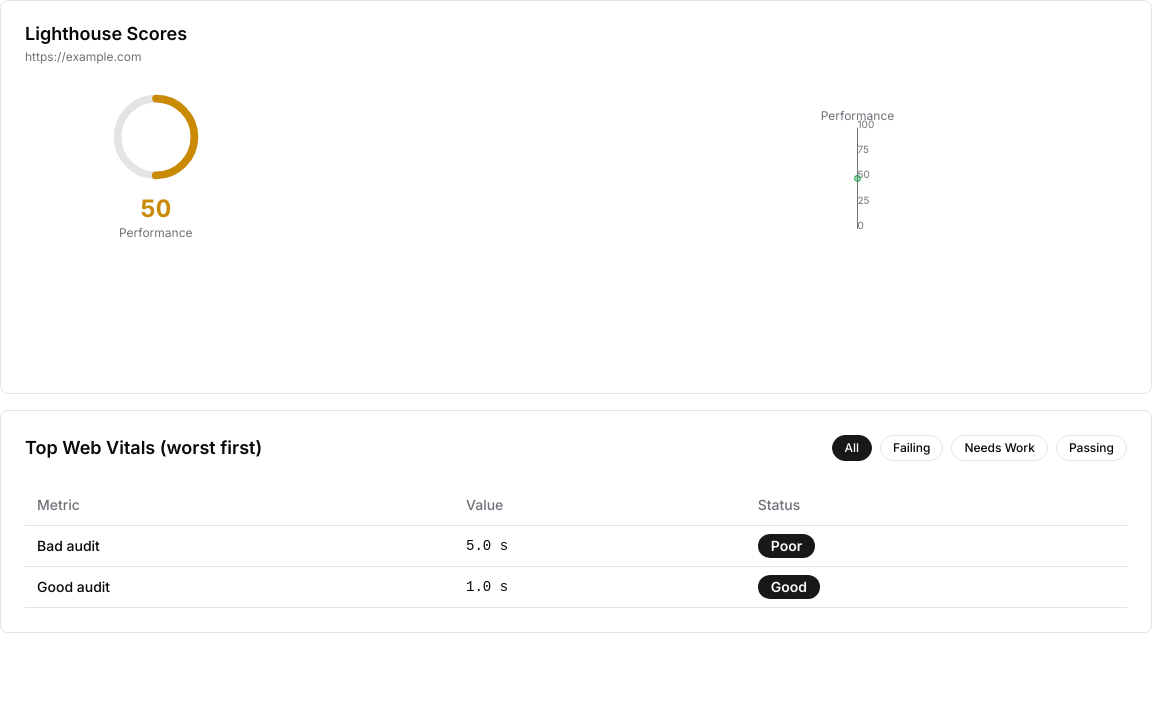
QualityDetail › filters audits by status when a chip is toggled
Check: the text "Bad audit" is shown, box x1=25 y1=525 x2=454 y2=566
Check: the text "Good audit" is shown, box x1=25 y1=566 x2=454 y2=607
What coordinates should you click on to do the following:
click the button "Failing"
I would click on:
 (912, 448)
Its box is x1=880 y1=435 x2=944 y2=461.
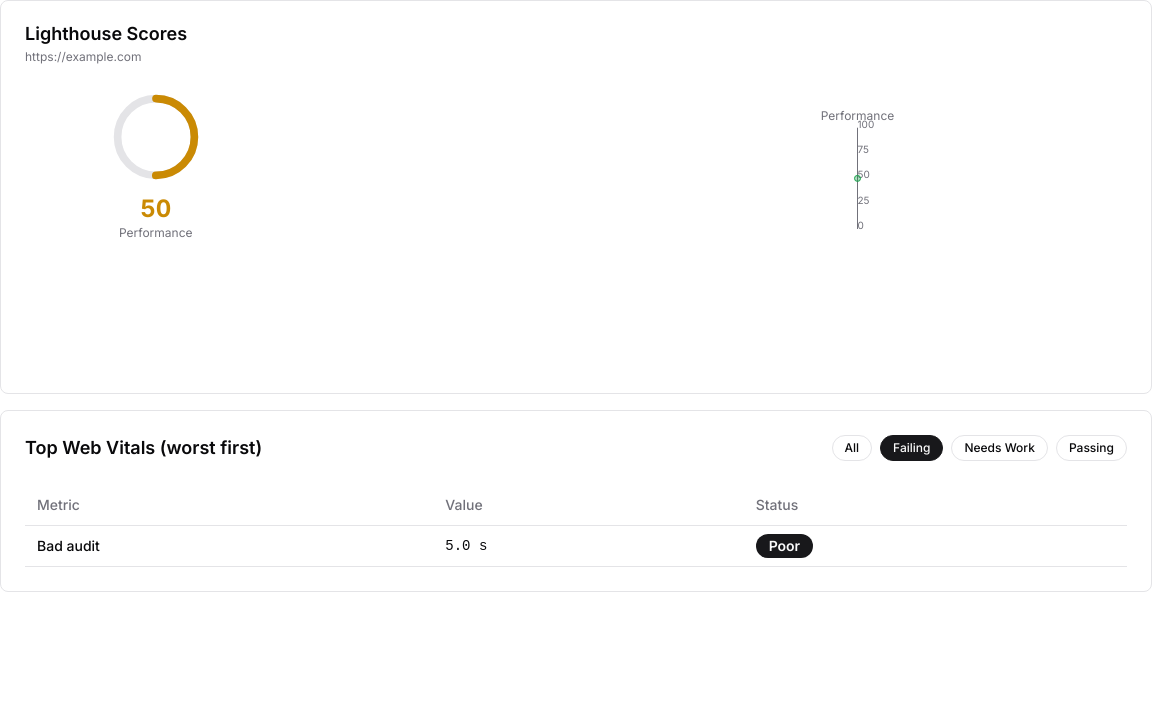
Check: the text "Bad audit" is shown, box x1=25 y1=525 x2=433 y2=566
Check: the text "Good audit" is gone
